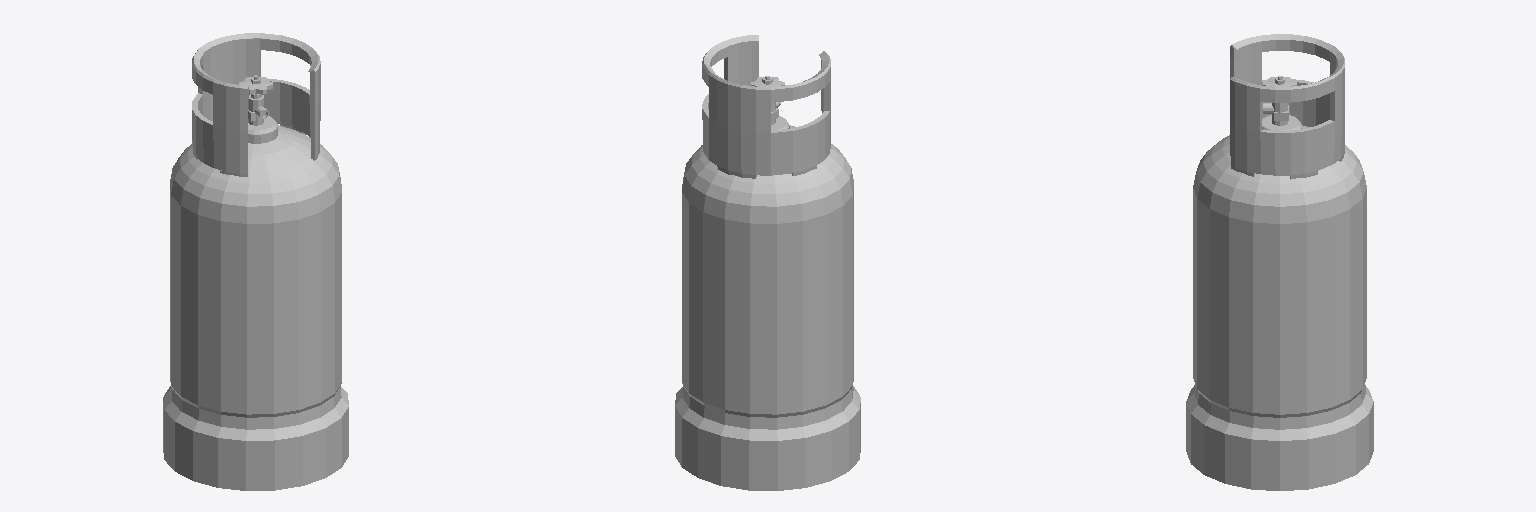
Rendered from gas_bottle.obj.
3 views of the same model, side by side, from view 1: azimuth 30°, elevation 25°; view 2: azimuth 150°, elevation 25°; view 3: azimuth 270°, elevation 25° (orthographic).
Parts seen in each view (by area): view 1: gas_bottle_fire; view 2: gas_bottle_fire; view 3: gas_bottle_fire.
Part boxes in pixels (left/top/right/bottom): gas_bottle_fire: left=163, top=33, right=348, bottom=490; gas_bottle_fire: left=675, top=35, right=860, bottom=490; gas_bottle_fire: left=1186, top=34, right=1373, bottom=490.
Bounding box in the file's own units: 0.0458 × 0.1056 × 0.0458.